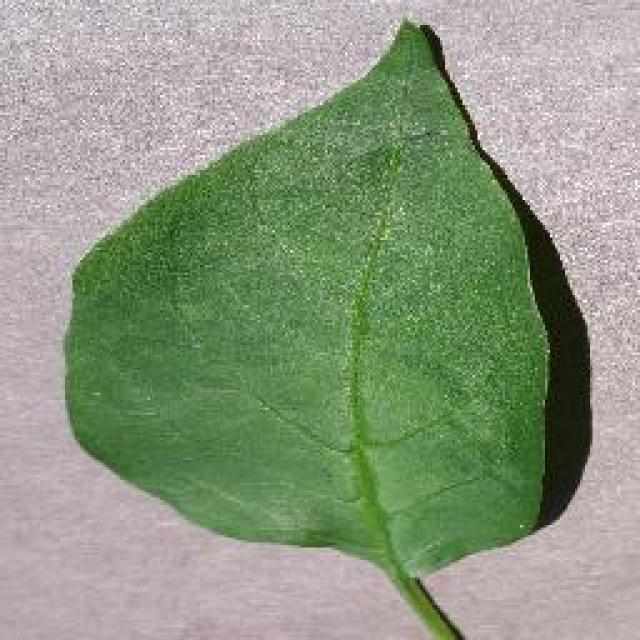Chilli_Healthy: (60, 15, 568, 637)
